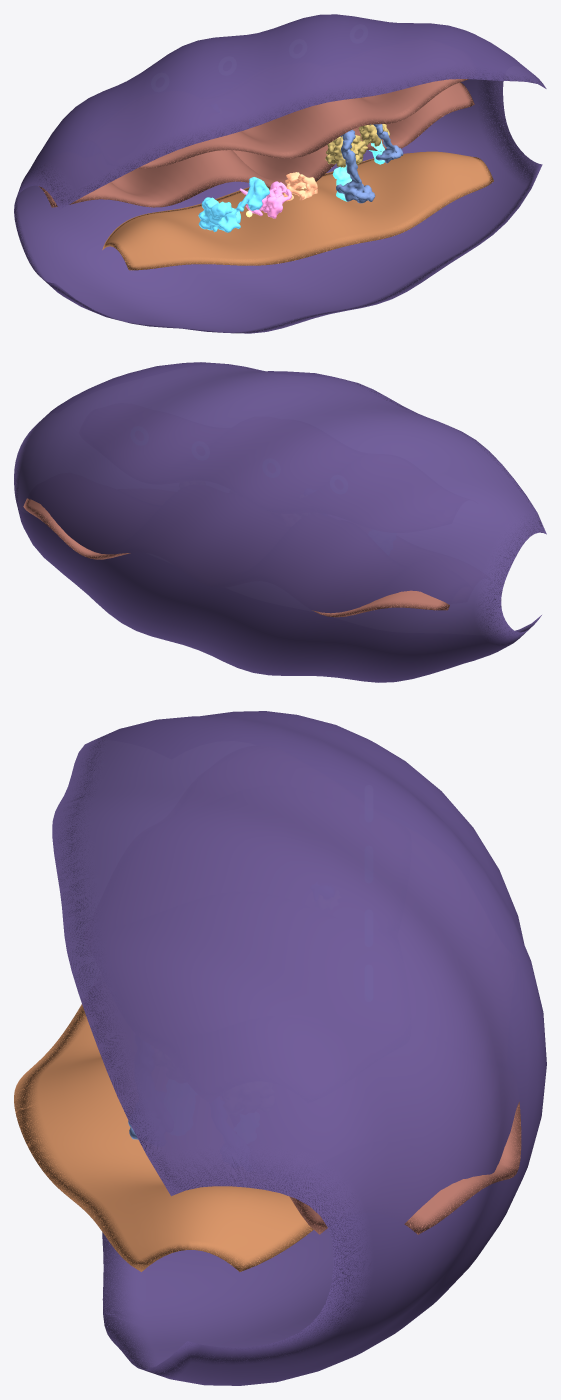
Rendered from mitochondrion.glb.
3 views of the same model, one above another, from view 1: azimuth 30°, elevation 25°; view 2: azimuth 150°, elevation 25°; view 3: azimuth 270°, elevation 25° (orthographic). The views are drawn at different scales.
Parts seen in each view (by area): view 1: Mitochondrion_Outer_Membrane, Inner_Crista_Hero_Ridge, Inner_Crista_Back_Cathedral, Inner_Crista_Ceiling_Arch, ETC_Complex_I_5XTD, F0_Peripheral_Stator, ETC_Complex_III2_5XTD, F1_Catalytic_Hexamer, ETC_Complex_IV_5XTD, BG_ATPSynthase_A_Stator, BG_ATPSynthase_A_F1; view 2: Mitochondrion_Outer_Membrane, Inner_Crista_Back_Cathedral; view 3: Mitochondrion_Outer_Membrane, Inner_Crista_Hero_Ridge, Inner_Crista_Back_Cathedral.
Part boxes in pixels (x1,y1,x2,y2): Mitochondrion_Outer_Membrane: (14,14,546,333); Inner_Crista_Hero_Ridge: (102,151,493,270); Inner_Crista_Back_Cathedral: (39,82,474,207); Inner_Crista_Ceiling_Arch: (138,79,468,168); ETC_Complex_I_5XTD: (198,177,269,232); F0_Peripheral_Stator: (336,129,375,203); ETC_Complex_III2_5XTD: (239,181,291,218); F1_Catalytic_Hexamer: (325,135,367,167); ETC_Complex_IV_5XTD: (283,172,317,201); BG_ATPSynthase_A_Stator: (373,124,403,163); BG_ATPSynthase_A_F1: (358,124,390,146); Mitochondrion_Outer_Membrane: (14,362,546,682); Inner_Crista_Back_Cathedral: (23,498,449,617); Mitochondrion_Outer_Membrane: (52,711,546,1385); Inner_Crista_Hero_Ridge: (14,1004,313,1271); Inner_Crista_Back_Cathedral: (289,1102,521,1234).
Bounding box in the file's own units: 7.6 × 3.97 × 3.89.
